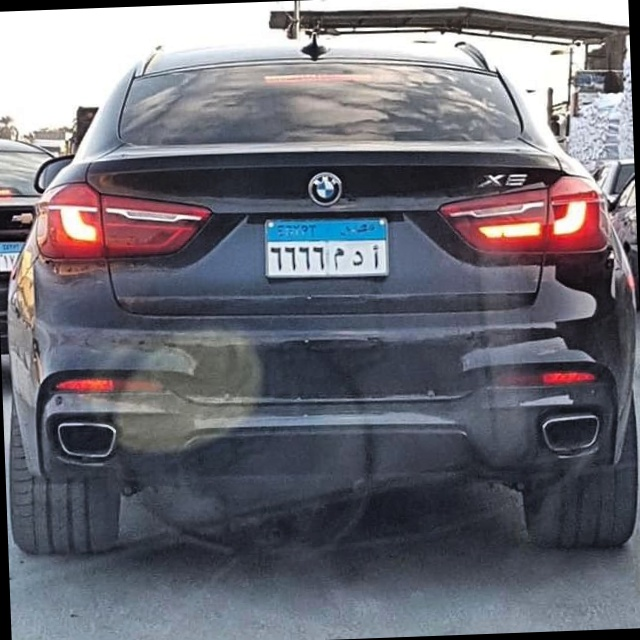License Plate: (261, 212, 391, 282)
